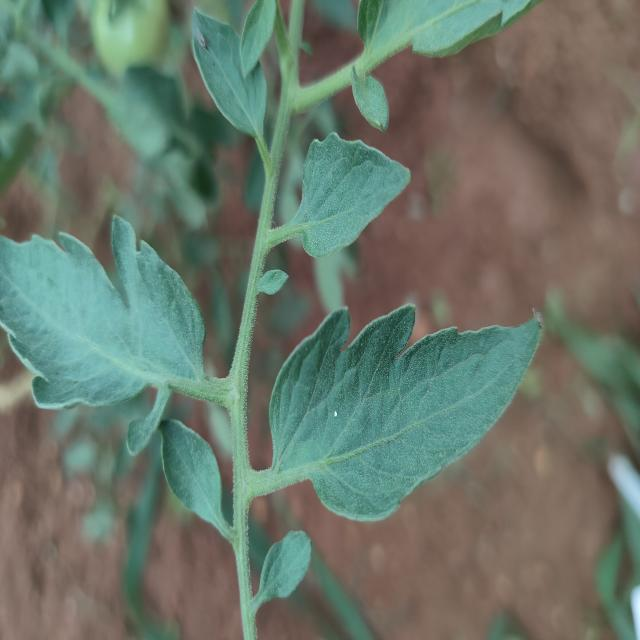tomato_healthy: (259, 305, 542, 521), (0, 215, 205, 408), (268, 132, 410, 256), (192, 8, 267, 147), (158, 419, 232, 542), (252, 531, 312, 614)
